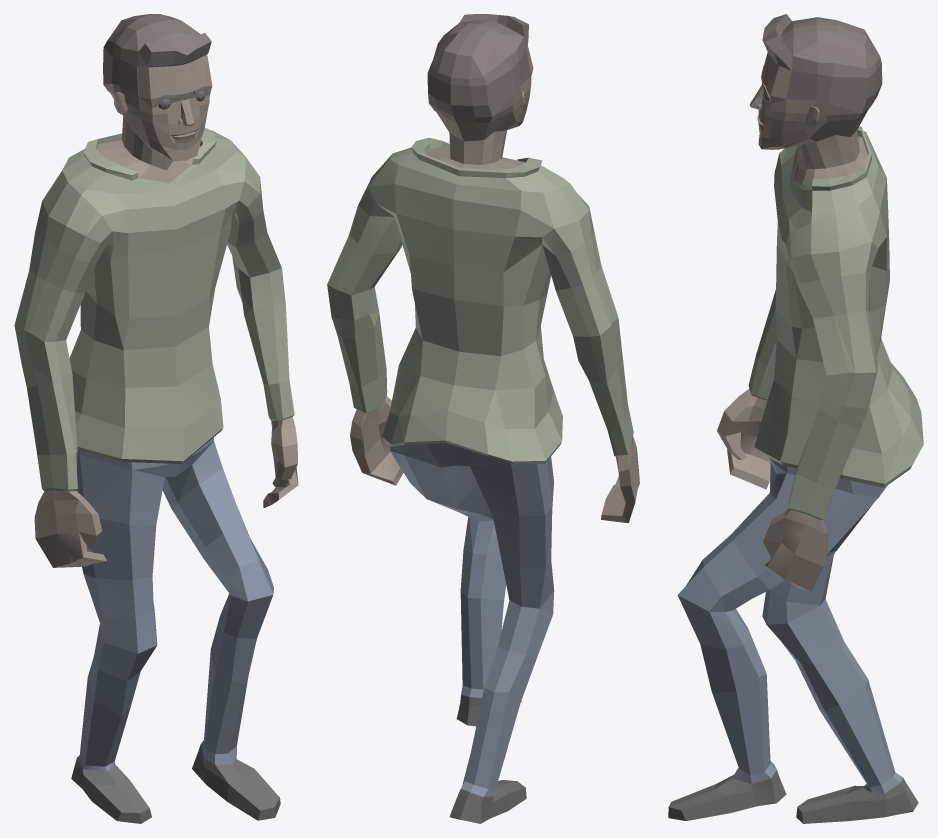
File: walk_1.glb
The picture shows the model from 3 angles, left to right: view 1: azimuth 30°, elevation 25°; view 2: azimuth 150°, elevation 25°; view 3: azimuth 270°, elevation 25°; orthographic projection. The views are drawn at different scales.
Visible parts, largest first — view 1: BaseHuman_baked; view 2: BaseHuman_baked; view 3: BaseHuman_baked.
Boxes of the visible parts, x1=… form: BaseHuman_baked: x1=14, y1=14, x2=298, y2=823; BaseHuman_baked: x1=327, y1=14, x2=639, y2=823; BaseHuman_baked: x1=668, y1=14, x2=923, y2=823.
Bounding box in the file's own units: 1.7 × 4.69 × 1.35.
